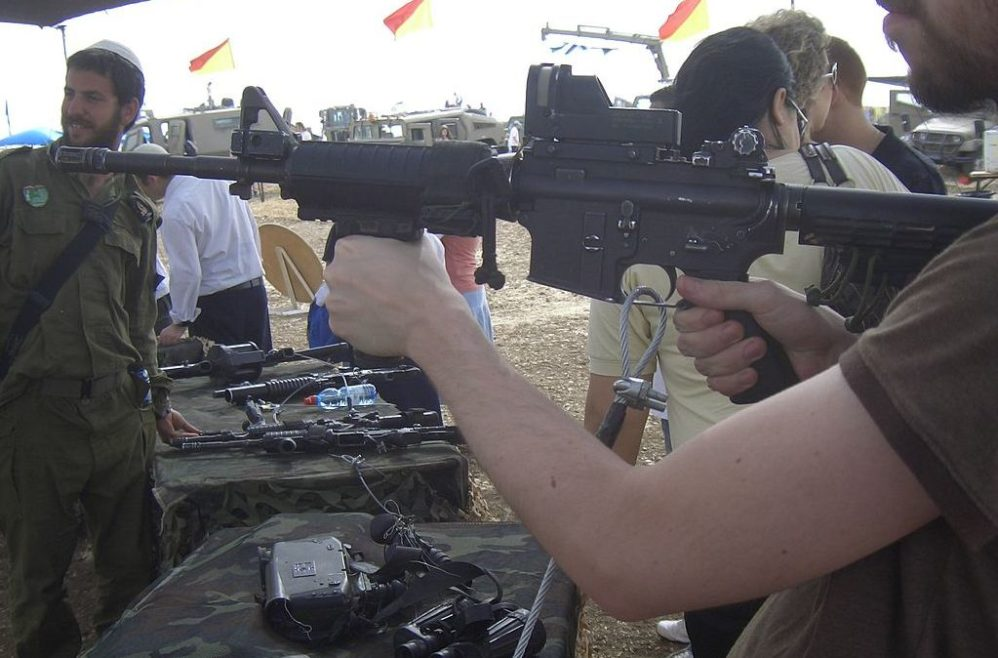Rifle: (46, 64, 998, 343), (170, 421, 479, 466), (219, 368, 434, 409)
